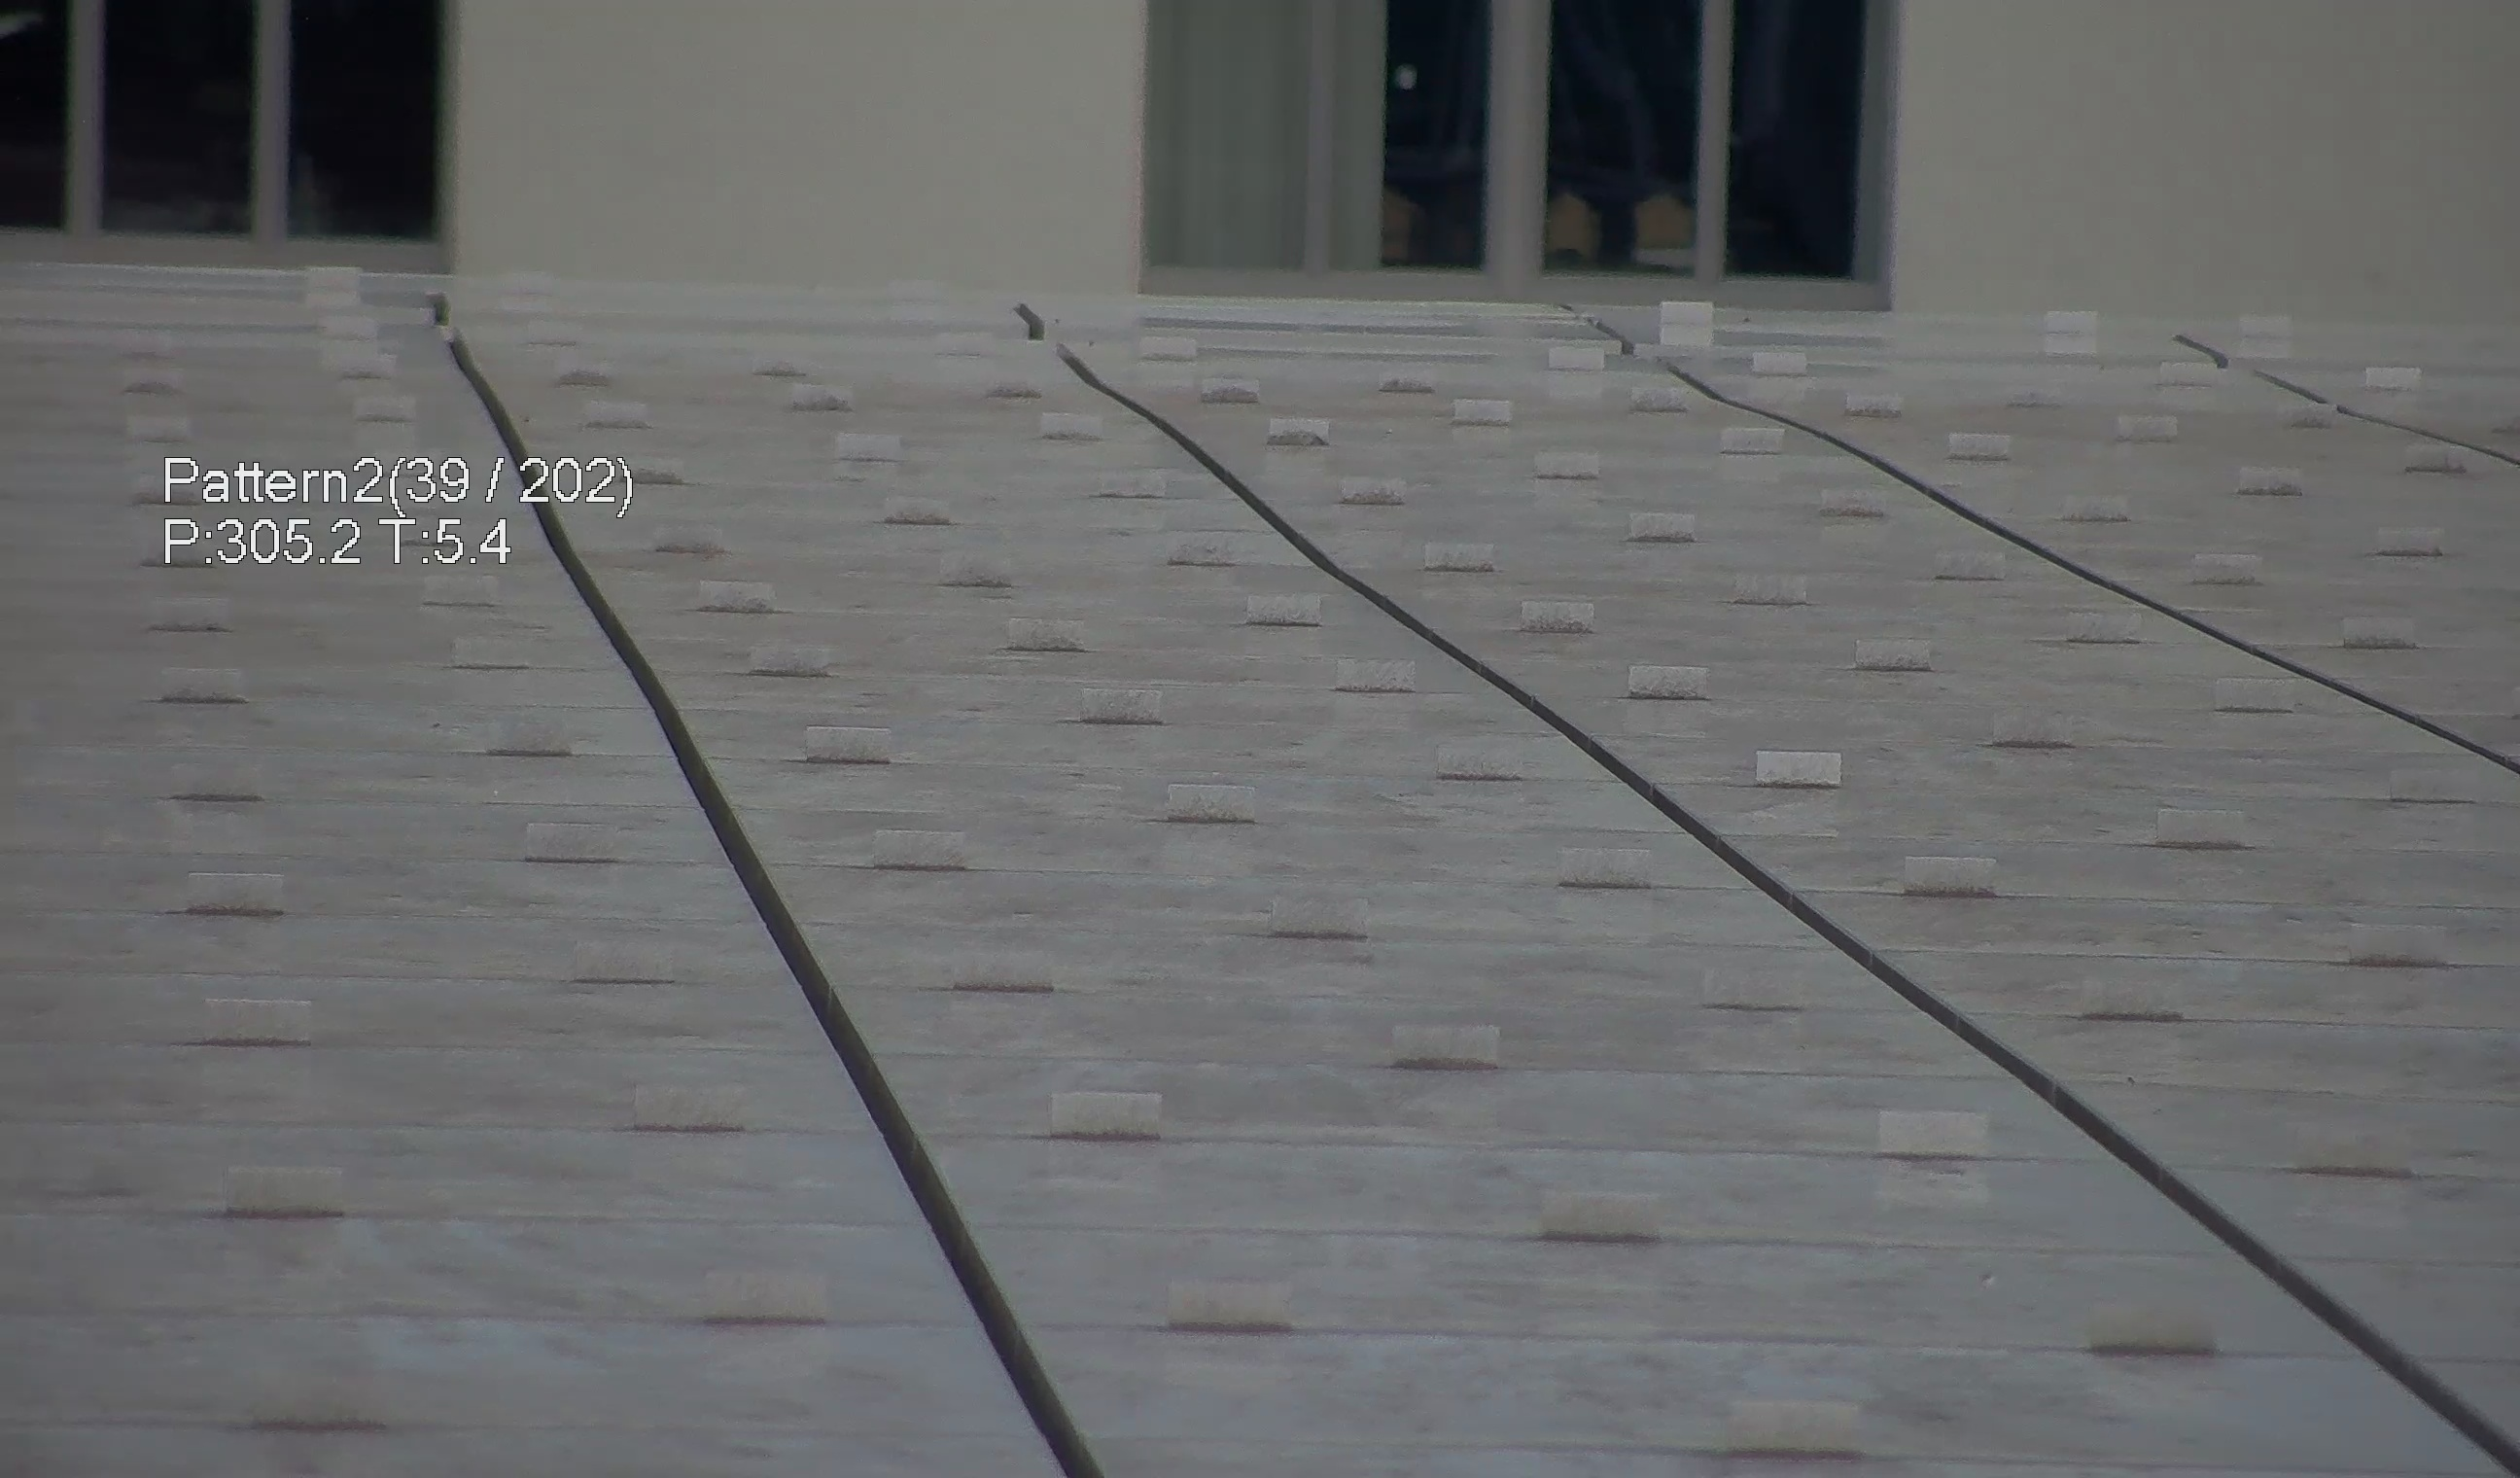Other: (399, 292, 522, 494)
